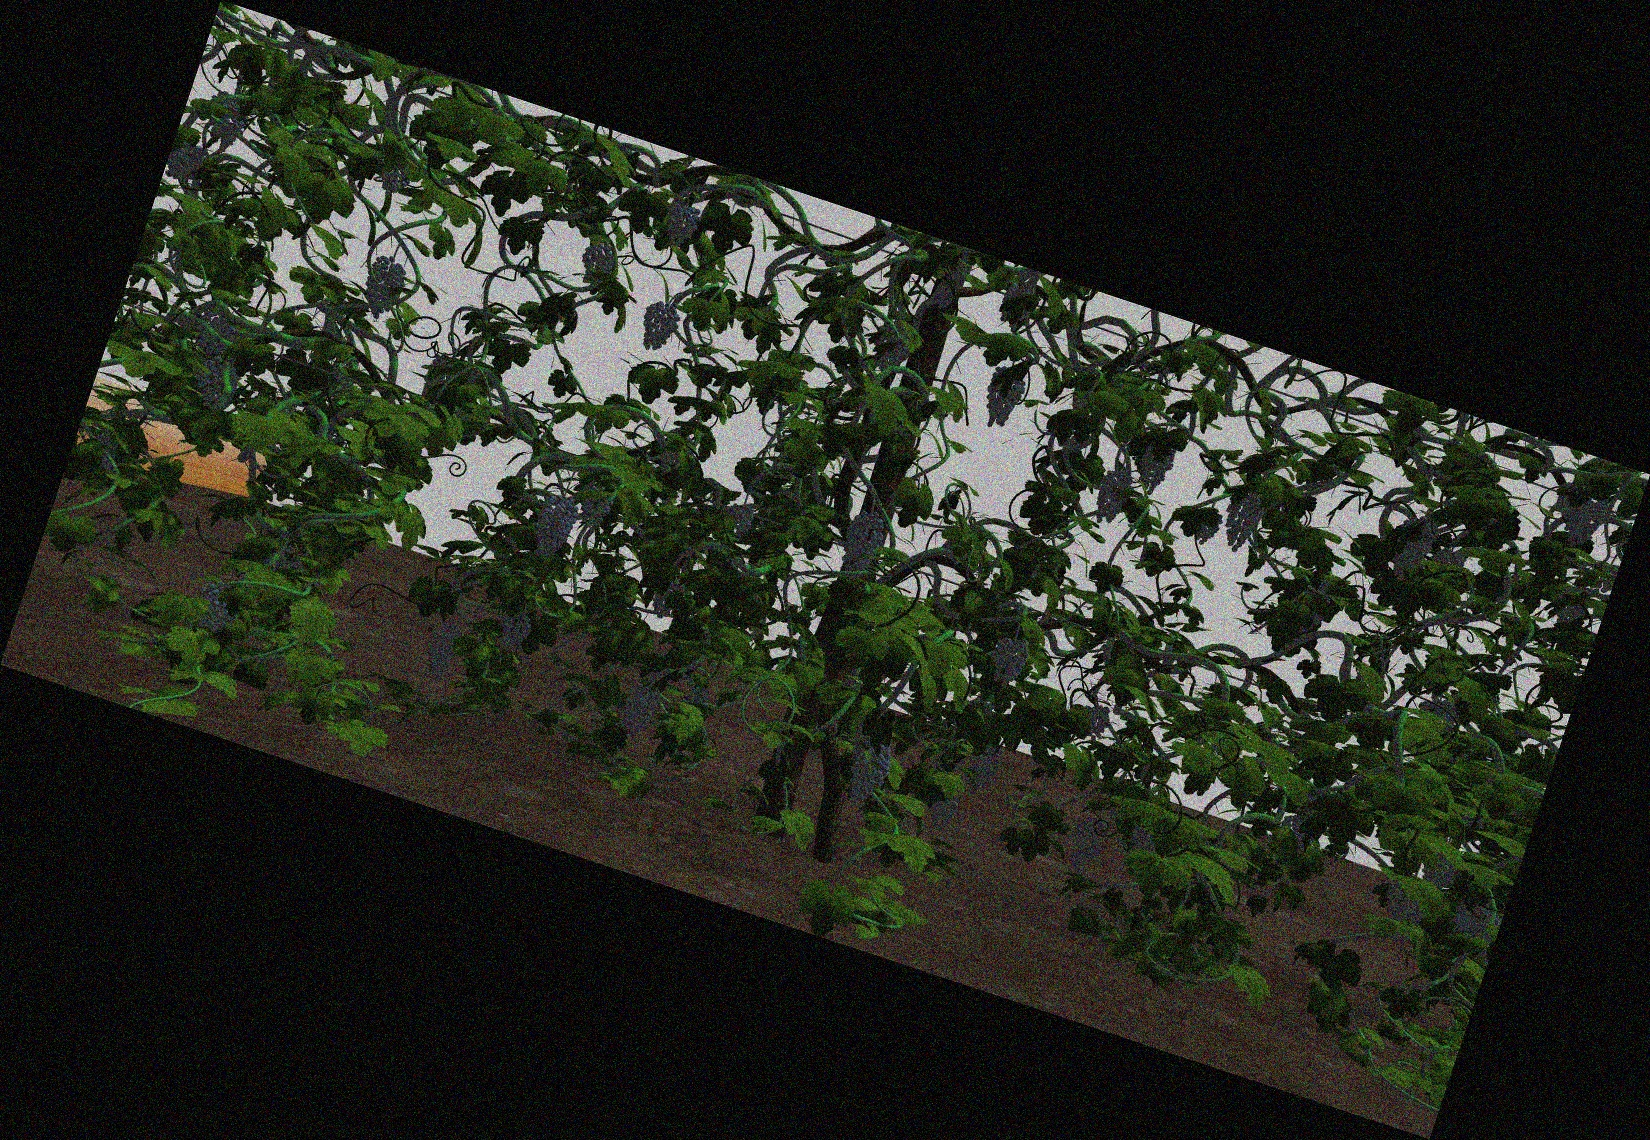grape: (1553, 492, 1604, 546), (849, 740, 888, 808), (364, 257, 405, 319), (844, 510, 880, 576), (984, 369, 1023, 429), (1394, 515, 1429, 582), (537, 495, 573, 559), (1068, 816, 1105, 877), (1224, 490, 1260, 549), (196, 584, 234, 633), (621, 687, 658, 737), (196, 360, 237, 405), (641, 302, 677, 351), (1098, 469, 1130, 525), (1140, 441, 1172, 495), (426, 623, 458, 676), (1383, 885, 1426, 923), (968, 744, 999, 794), (665, 201, 698, 247), (993, 640, 1026, 687), (499, 612, 530, 655), (1452, 904, 1488, 939), (201, 319, 234, 355), (581, 246, 613, 282), (171, 145, 203, 181), (930, 794, 957, 834), (725, 503, 754, 536), (1082, 704, 1111, 735), (380, 171, 409, 194)
